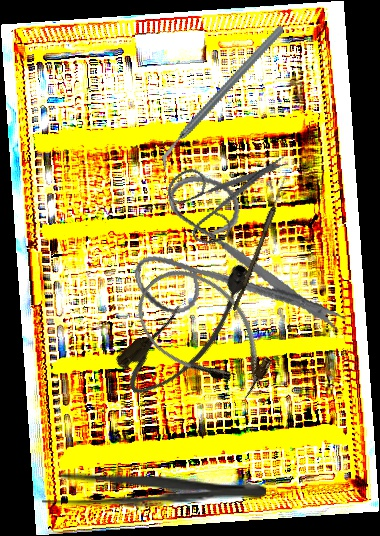Cannula: (119, 250, 291, 415), (108, 254, 272, 406)
Chopper: (127, 24, 317, 172)
Dressing Forceps: (42, 473, 266, 509)
Iris Scissors: (118, 151, 352, 370), (152, 117, 293, 263)
Surgical Spoon: (232, 170, 290, 313)
